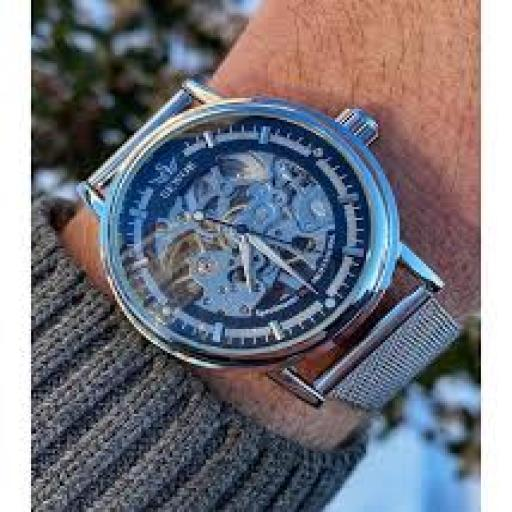KolSaati: (42, 32, 482, 459)
